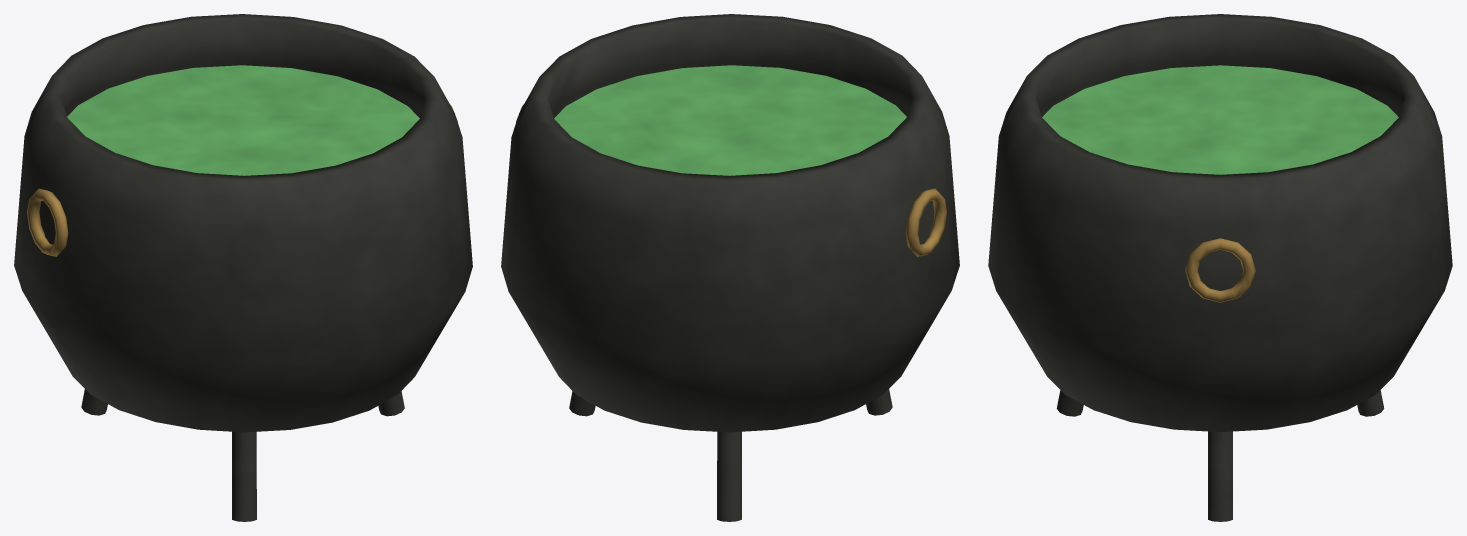
Rendered from Furn_Cauldron.fbx.
The picture shows the model from 3 angles, left to right: view 1: azimuth 30°, elevation 25°; view 2: azimuth 150°, elevation 25°; view 3: azimuth 270°, elevation 25°; orthographic projection.
Parts seen in each view (by area): view 1: Furn_Cauldron_Mesh; view 2: Furn_Cauldron_Mesh; view 3: Furn_Cauldron_Mesh.
Boxes of the visible parts, x1=… form: Furn_Cauldron_Mesh: x1=14, y1=14, x2=472, y2=521; Furn_Cauldron_Mesh: x1=501, y1=14, x2=959, y2=521; Furn_Cauldron_Mesh: x1=988, y1=14, x2=1452, y2=521.
Bounding box in the file's own units: 0.9 × 0.75 × 0.9.
3 materials, 3 textured.
